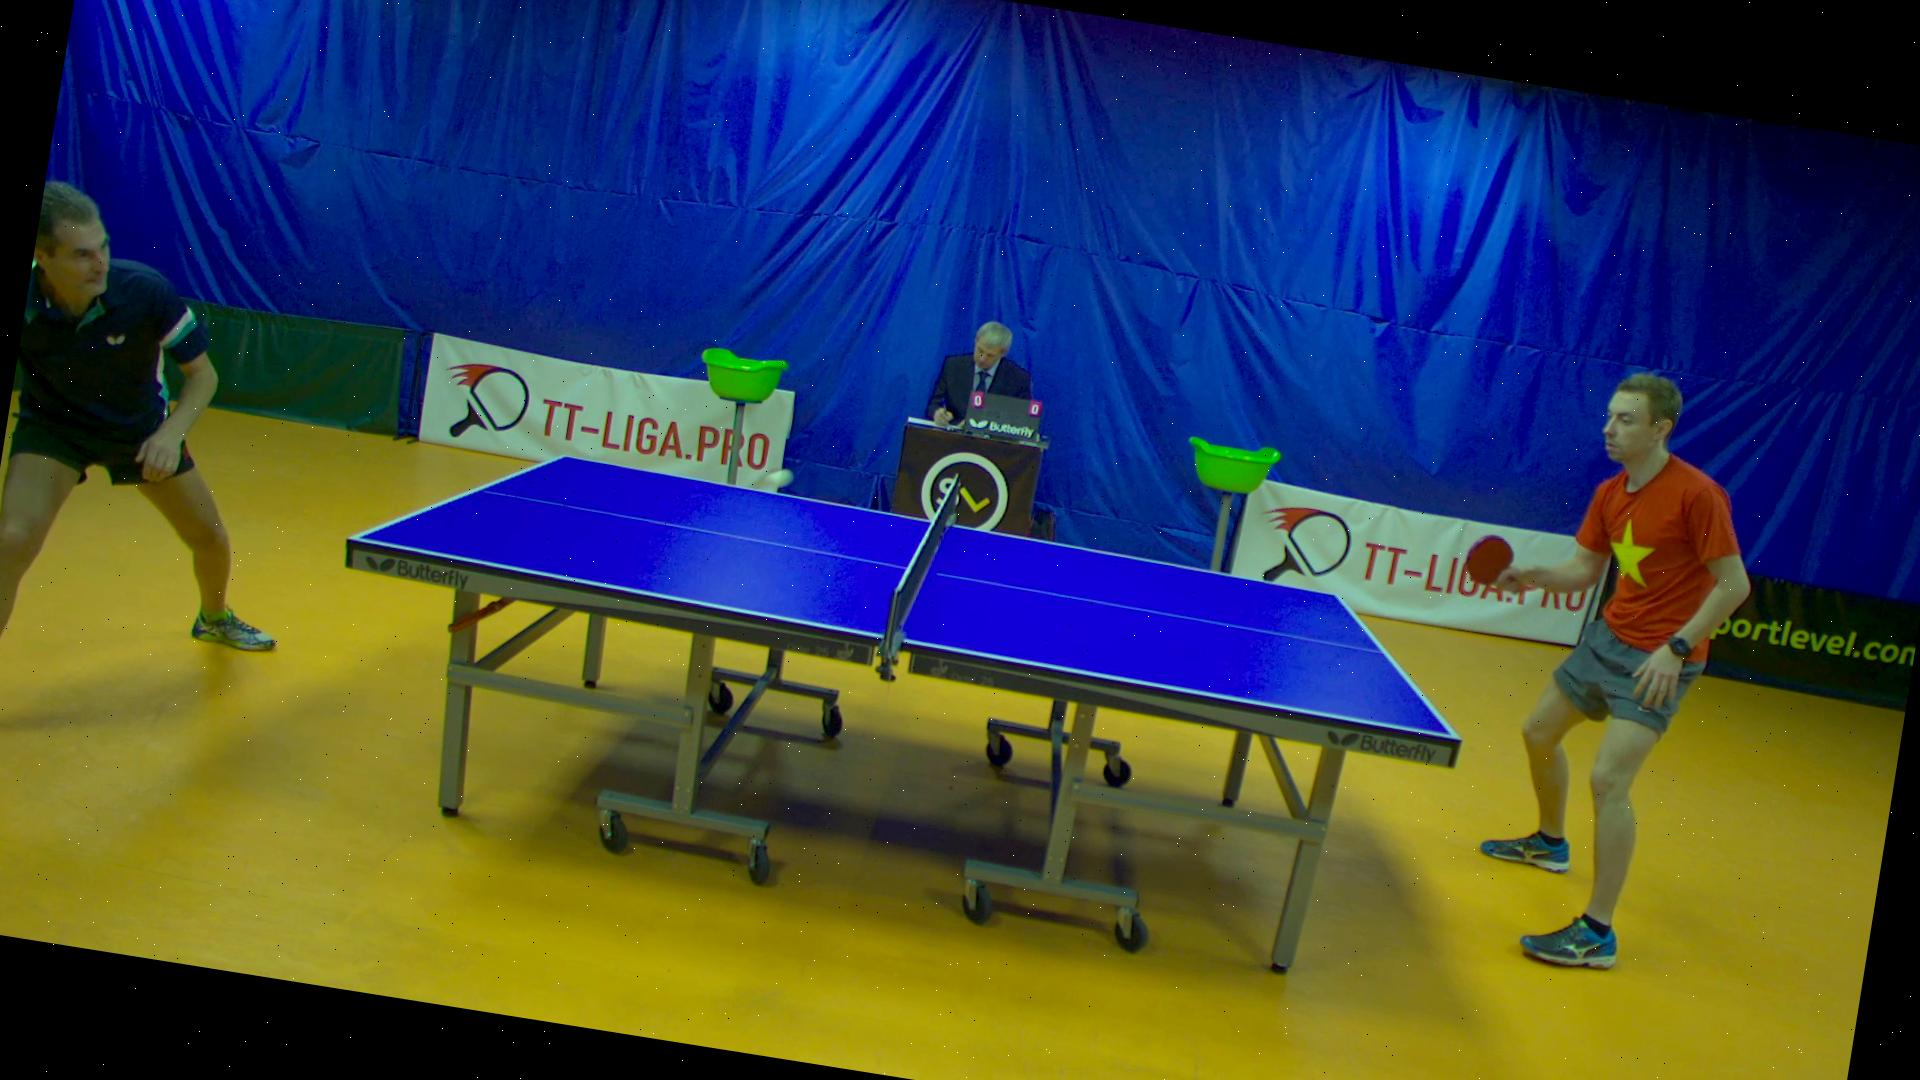ball: (756, 460, 802, 496)
